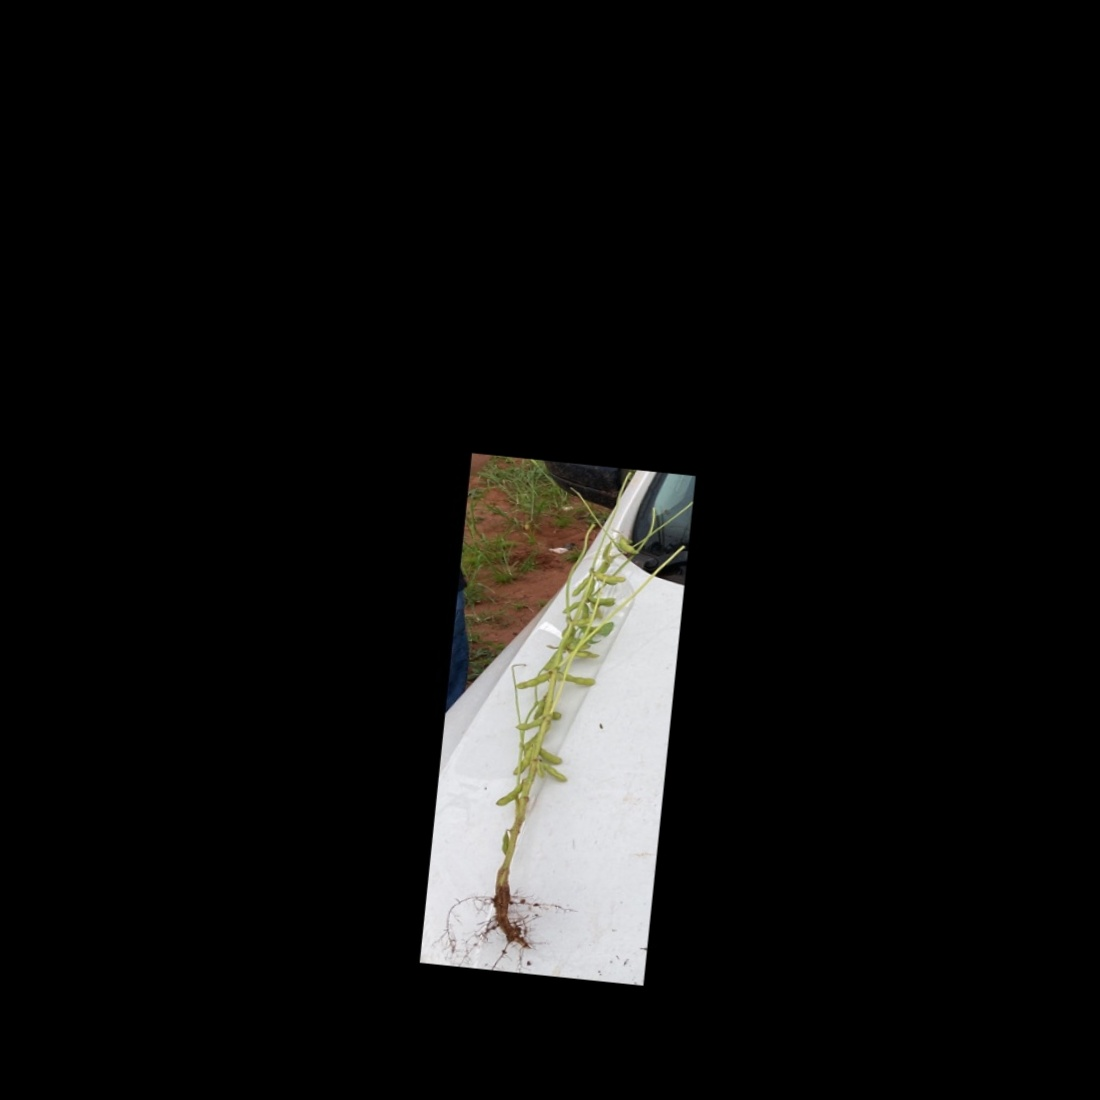pod: (487, 773, 525, 810), (512, 664, 554, 696), (539, 761, 571, 784), (514, 712, 544, 735), (562, 671, 597, 688), (536, 746, 564, 766), (497, 830, 511, 856)
soy: (477, 486, 645, 949)
